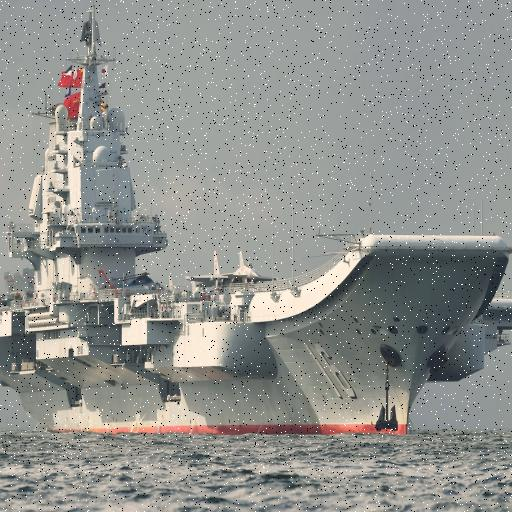Portanaves: (1, 1, 512, 444)
